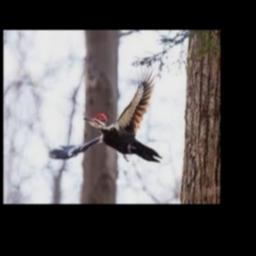Woodpecker: (48, 66, 162, 162)
